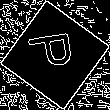P_E: (27, 33, 83, 77)
